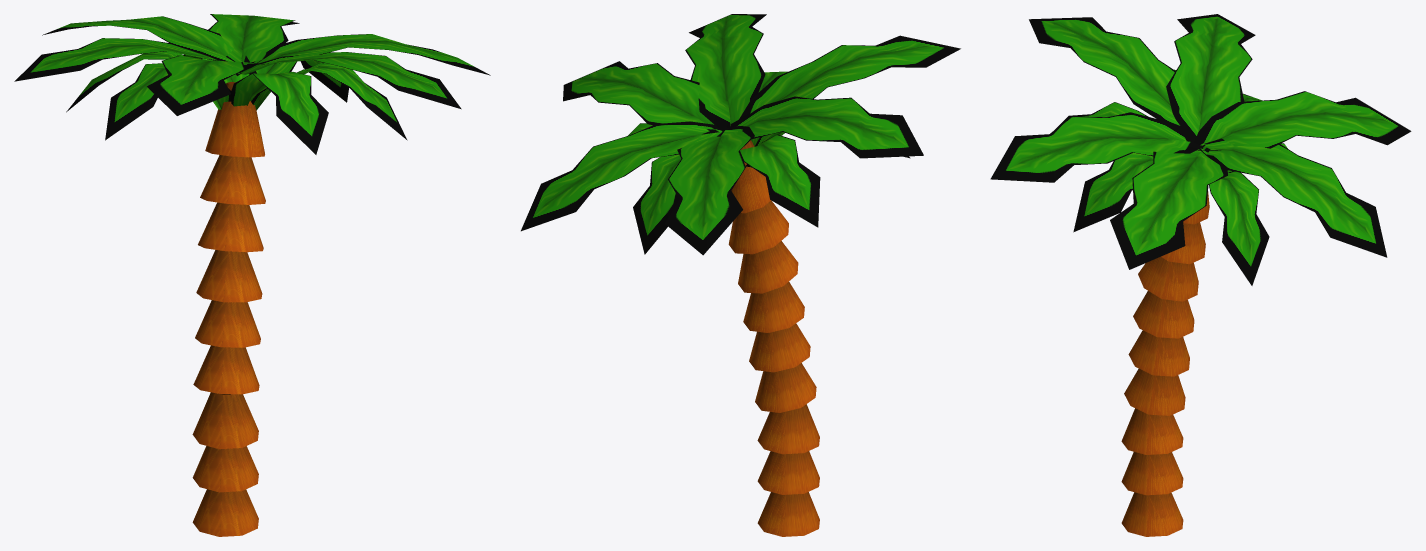
Rendered from palmboom_nieuw2.fbx.
3 renders of one model, left to right at view 1: azimuth 30°, elevation 25°; view 2: azimuth 150°, elevation 25°; view 3: azimuth 270°, elevation 25°, orthographic. The views are drawn at different scales.
Parts seen in each view (by area): view 1: Plane_7, Plane, Plane_1, Plane_5, Cylinder, Plane_3, Plane_4, Plane_2, Cylinder_4, Cylinder_7, Cylinder_1, Cylinder_3 (+8 smaller); view 2: Plane_4, Plane_5, Plane_3, Plane_1, Plane, Plane_2, Plane_11, Plane_10, Cylinder, Cylinder_5, Cylinder_1, Cylinder_3 (+5 smaller); view 3: Plane_1, Plane_2, Plane_4, Plane_3, Plane_5, Plane, Plane_9, Plane_8, Cylinder_1, Cylinder_3, Cylinder_2_2, Cylinder (+5 smaller).
Part boxes in pixels (bbox=[...]): Plane_7: bbox=[230, 72, 328, 154]; Plane: bbox=[147, 55, 259, 115]; Plane_1: bbox=[239, 52, 461, 109]; Plane_5: bbox=[14, 38, 253, 81]; Cylinder: bbox=[192, 392, 258, 449]; Plane_3: bbox=[208, 14, 299, 75]; Plane_4: bbox=[42, 16, 256, 74]; Plane_2: bbox=[251, 34, 490, 75]; Cylinder_4: bbox=[196, 250, 262, 302]; Cylinder_7: bbox=[205, 82, 264, 157]; Cylinder_1: bbox=[192, 489, 258, 536]; Cylinder_3: bbox=[193, 345, 259, 394]; Plane_4: bbox=[665, 126, 754, 255]; Plane_5: bbox=[731, 96, 923, 158]; Plane_3: bbox=[521, 121, 723, 231]; Plane_1: bbox=[685, 14, 766, 131]; Plane: bbox=[737, 35, 960, 121]; Plane_2: bbox=[563, 61, 718, 132]; Plane_11: bbox=[740, 134, 820, 227]; Plane_10: bbox=[633, 154, 681, 254]; Cylinder: bbox=[757, 404, 819, 454]; Cylinder_5: bbox=[728, 200, 788, 254]; Cylinder_1: bbox=[757, 492, 819, 536]; Cylinder_3: bbox=[755, 363, 816, 412]; Plane_1: bbox=[990, 112, 1203, 182]; Plane_2: bbox=[1110, 147, 1227, 269]; Plane_4: bbox=[1194, 91, 1411, 150]; Plane_3: bbox=[1199, 138, 1387, 257]; Plane_5: bbox=[1166, 14, 1255, 148]; Plane: bbox=[1029, 17, 1188, 136]; Plane_9: bbox=[1209, 171, 1269, 285]; Plane_8: bbox=[1073, 152, 1153, 232]; Cylinder_1: bbox=[1121, 492, 1183, 536]; Cylinder_3: bbox=[1124, 368, 1185, 415]; Cylinder_2_2: bbox=[1121, 452, 1183, 495]; Cylinder: bbox=[1121, 408, 1183, 454].
Bounding box in the file's own units: 1225 × 1337 × 1114.
2 materials, 2 textured.
